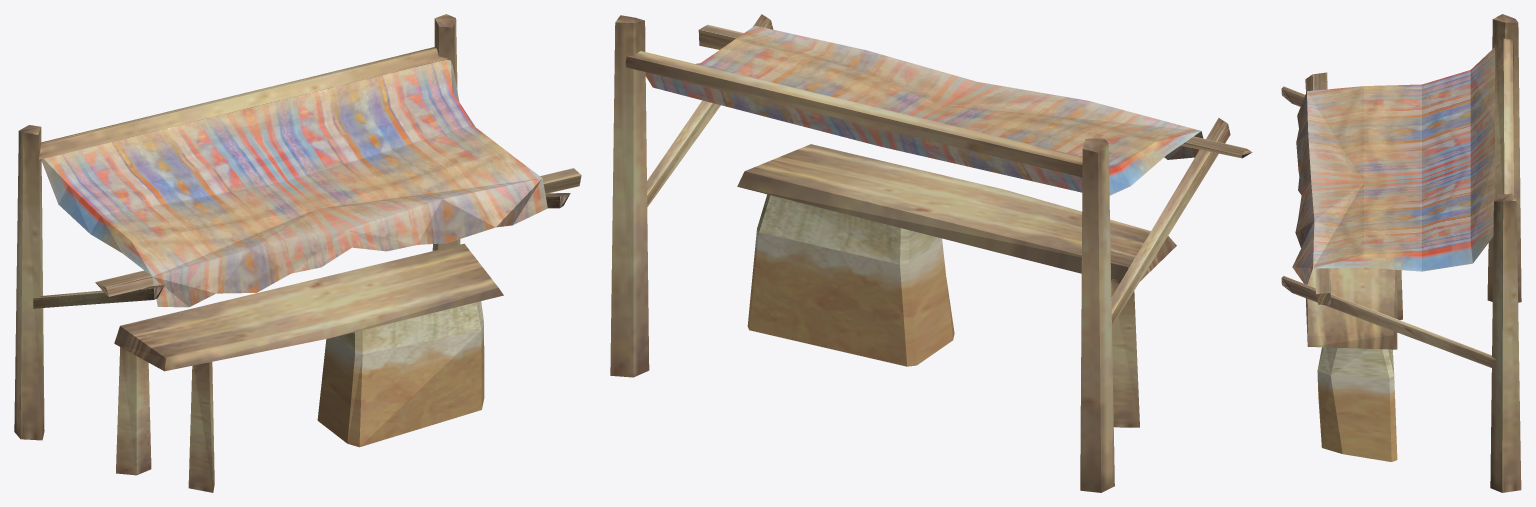
The model's file is C2SMMARKETSTALL2H.obj.
3 renders of one model, left to right at view 1: azimuth 30°, elevation 25°; view 2: azimuth 150°, elevation 25°; view 3: azimuth 270°, elevation 25°, orthographic. The views are drawn at different scales.
Visible parts, largest first — view 1: Node 2, Node 0, Node 8, Node 6, Node 9, Node 3, Node 4, Node 7; view 2: Node 0, Node 2, Node 8, Node 7, Node 6, Node 4, Node 5, Node 3; view 3: Node 2, Node 0, Node 7, Node 8, Node 6, Node 5, Node 3, Node 4.
Boxes of the visible parts, x1,y1,x2,y2 form: Node 2: (41, 59, 547, 307); Node 0: (14, 125, 484, 475); Node 8: (114, 243, 503, 371); Node 6: (39, 47, 447, 160); Node 9: (188, 362, 214, 492); Node 3: (95, 168, 581, 296); Node 4: (33, 285, 164, 308); Node 7: (432, 14, 460, 250); Node 0: (747, 137, 1139, 492); Node 2: (645, 25, 1203, 195); Node 8: (737, 144, 1176, 283); Node 7: (610, 15, 649, 377); Node 6: (625, 51, 1082, 177); Node 4: (1111, 118, 1230, 325); Node 5: (647, 14, 773, 206); Node 3: (698, 24, 1252, 158); Node 2: (1292, 47, 1495, 284); Node 0: (1317, 14, 1521, 461); Node 7: (1490, 193, 1521, 492); Node 8: (1306, 267, 1397, 349); Node 6: (1494, 38, 1514, 198); Node 5: (1281, 276, 1495, 368); Node 3: (1305, 72, 1330, 305); Node 4: (1281, 86, 1305, 106).
Bounding box in the file's own units: 11.6 × 7.24 × 5.44.
10 materials, 10 textured.
